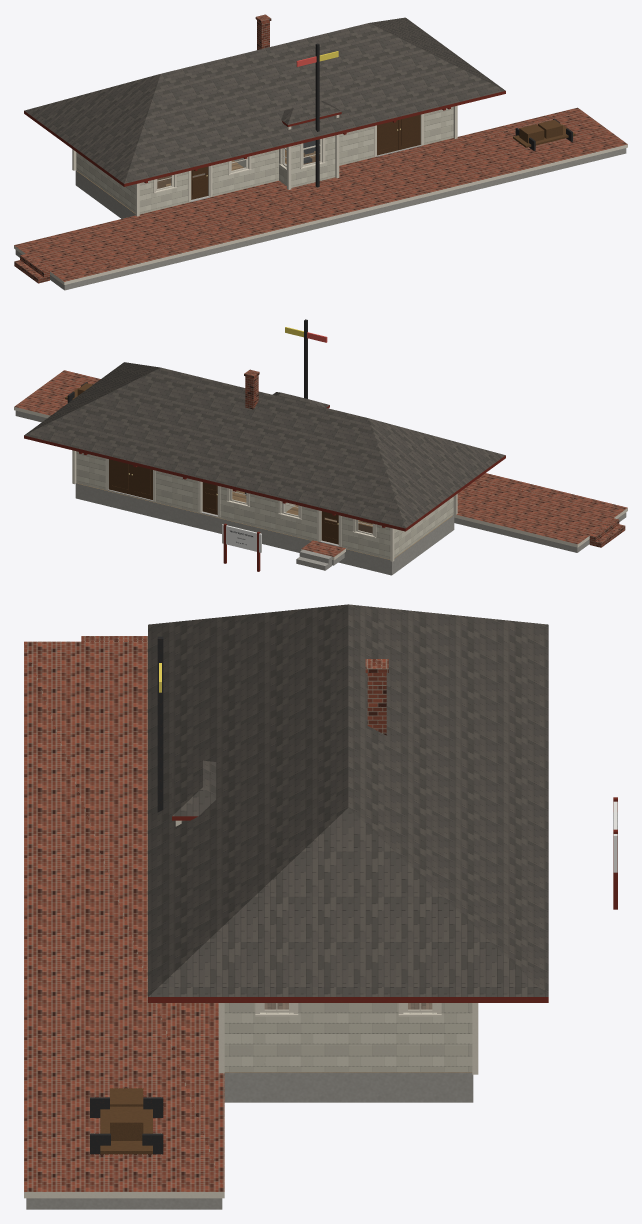
The model's file is P-DEPOT.glb.
3 renders of one model, top to bottom at view 1: azimuth 30°, elevation 25°; view 2: azimuth 150°, elevation 25°; view 3: azimuth 270°, elevation 25°, orthographic. The views are drawn at different scales.
Parts seen in each view (by area): view 1: roof_depot-col, porch_0-col, shell-col, baggage_cart-col, windows, train_order-col, roof_bay-col, door_freight_track_R__p, door_freight_track_L__n, door_wait_track__p, doorframe, glass (+1 smaller); view 2: roof_depot-col, shell-col, porch_0-col, porch_1-col, signs-col, doorframe, windows, door_freight_street_L__n, door_freight_street_R__p, floors-col, train_order-col, door_wait_street__p (+2 smaller); view 3: roof_depot-col, porch_0-col, shell-col, baggage_cart-col, roof_bay-col, chimneys-col, train_order-col, windows.
Boxes of the visible parts, <box> form: roof_depot-col: <box>24,17,505,186</box>; porch_0-col: <box>14,107,627,290</box>; shell-col: <box>72,105,457,218</box>; baggage_cart-col: <box>513,118,575,150</box>; windows: <box>99,138,325,193</box>; train_order-col: <box>296,43,338,187</box>; roof_bay-col: <box>281,101,341,126</box>; door_freight_track_R__p: <box>398,114,420,149</box>; door_freight_track_L__n: <box>377,120,398,155</box>; door_wait_track__p: <box>191,166,208,199</box>; doorframe: <box>188,114,423,202</box>; glass: <box>158,141,314,188</box>; roof_depot-col: <box>24,362,505,531</box>; shell-col: <box>72,450,457,575</box>; porch_0-col: <box>14,370,627,552</box>; porch_1-col: <box>296,540,346,570</box>; signs-col: <box>222,523,261,571</box>; doorframe: <box>105,458,341,546</box>; windows: <box>226,488,430,538</box>; door_freight_street_L__n: <box>109,459,130,494</box>; door_freight_street_R__p: <box>131,464,152,499</box>; floors-col: <box>78,483,451,559</box>; train_order-col: <box>285,319,327,398</box>; door_wait_street__p: <box>321,511,338,544</box>; roof_depot-col: <box>148,604,548,1002</box>; porch_0-col: <box>24,636,224,1209</box>; shell-col: <box>175,820,478,1102</box>; baggage_cart-col: <box>90,1088,163,1154</box>; roof_bay-col: <box>172,760,216,820</box>; chimneys-col: <box>365,659,388,735</box>; train_order-col: <box>157,636,163,812</box>; windows: <box>255,1003,441,1016</box>.
Bounding box in the file's own units: 27.8 × 7.3 × 12.43.
22 materials, 13 textured.
